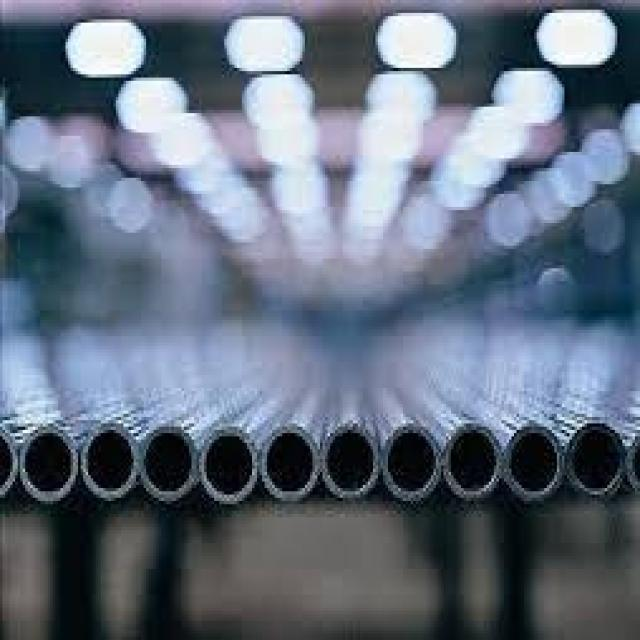pipe: (569, 425, 626, 496), (327, 431, 374, 492), (511, 433, 559, 492), (389, 433, 436, 492), (87, 431, 133, 491), (451, 432, 497, 492), (206, 437, 252, 494), (268, 434, 313, 492), (25, 435, 70, 492), (146, 434, 189, 492)
